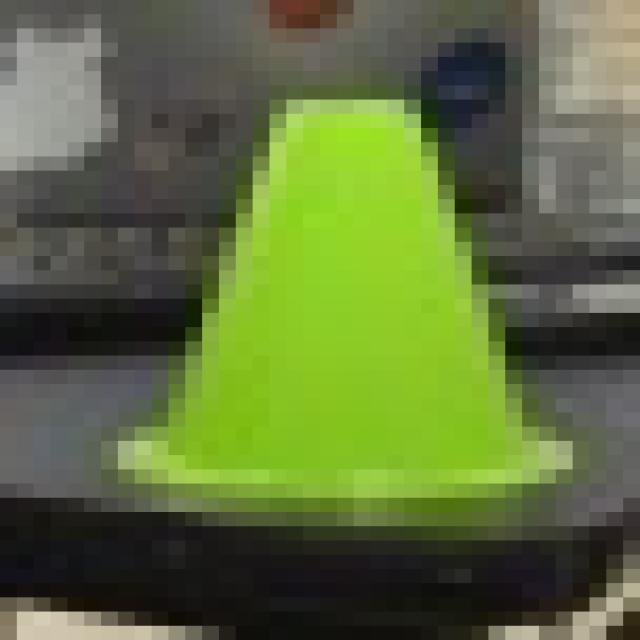cono: (101, 85, 573, 498)
